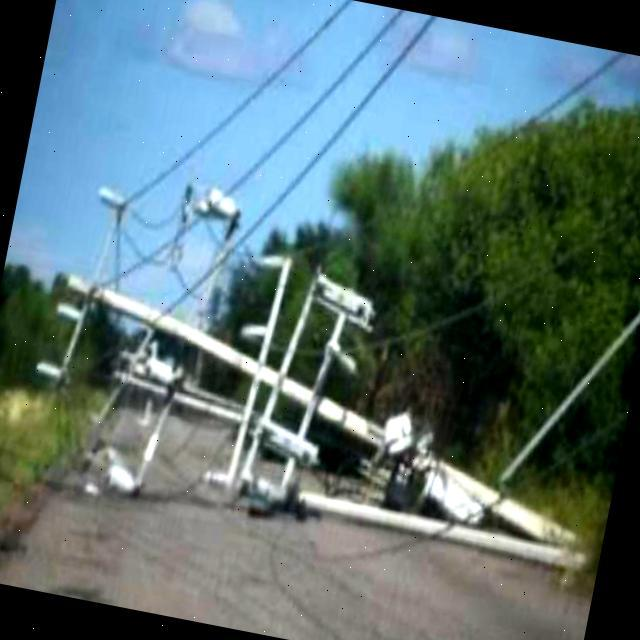Broken Pole: (25, 167, 599, 581)
